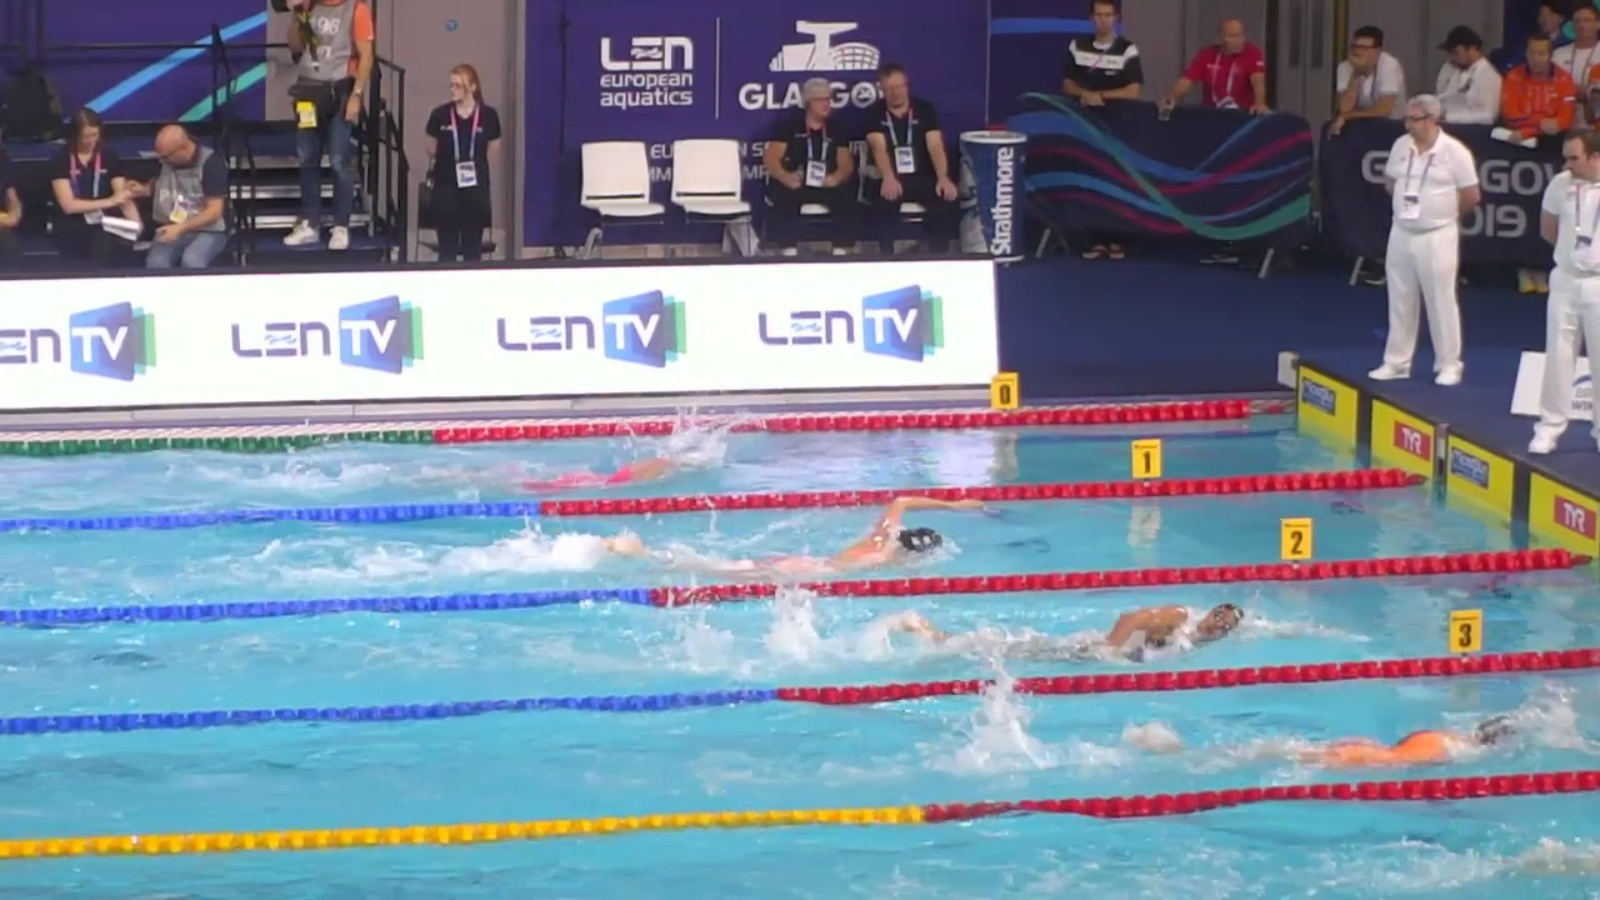swimmerw: (601, 487, 989, 577), (1115, 713, 1527, 784), (887, 597, 1254, 663), (490, 441, 716, 497)
